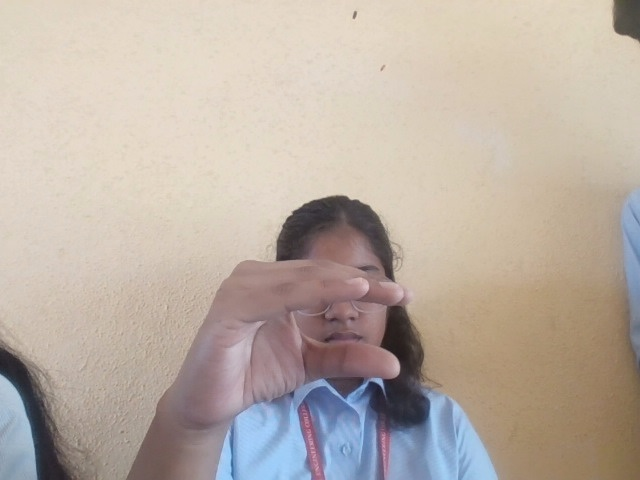No: (143, 250, 414, 436)
